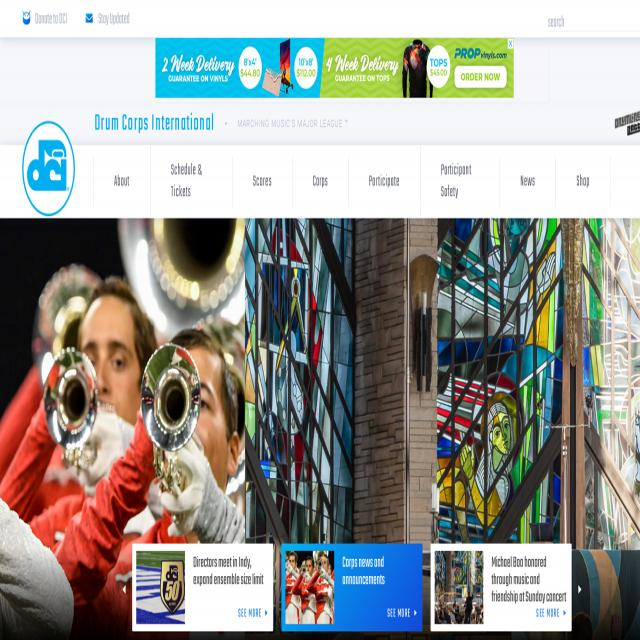button: (156, 39, 513, 97), (281, 543, 422, 632), (430, 544, 572, 632), (132, 544, 274, 632), (151, 146, 232, 218), (420, 146, 500, 218), (23, 121, 76, 216), (348, 156, 419, 208), (232, 156, 292, 208), (500, 156, 556, 208), (94, 156, 150, 208), (292, 156, 348, 208), (556, 156, 610, 208), (20, 4, 74, 32), (454, 64, 506, 88), (82, 8, 133, 31), (118, 580, 130, 600), (574, 580, 585, 598), (508, 39, 514, 49)
field: (548, 14, 636, 29)
